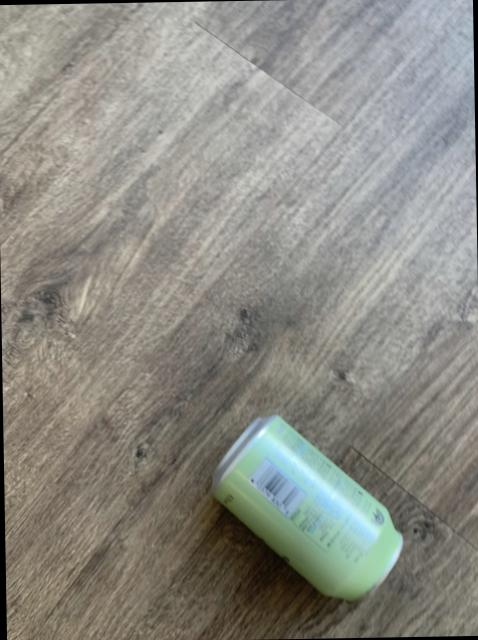metal: (213, 416, 401, 601)
